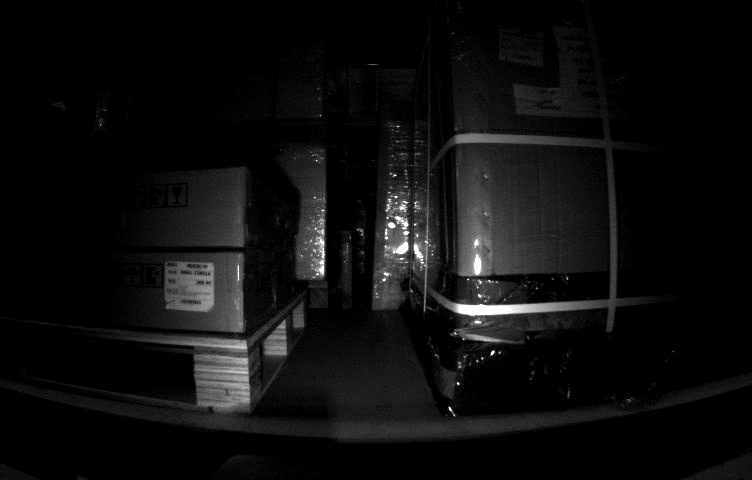True Barcode: (166, 257, 216, 312), (501, 24, 544, 64)
